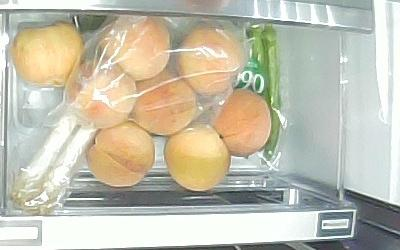peach: (13, 21, 84, 88), (86, 123, 156, 186), (164, 126, 231, 190), (212, 90, 272, 156)
peach_vinyl: (127, 71, 200, 137), (176, 26, 244, 95), (67, 61, 140, 122), (100, 17, 170, 80)
